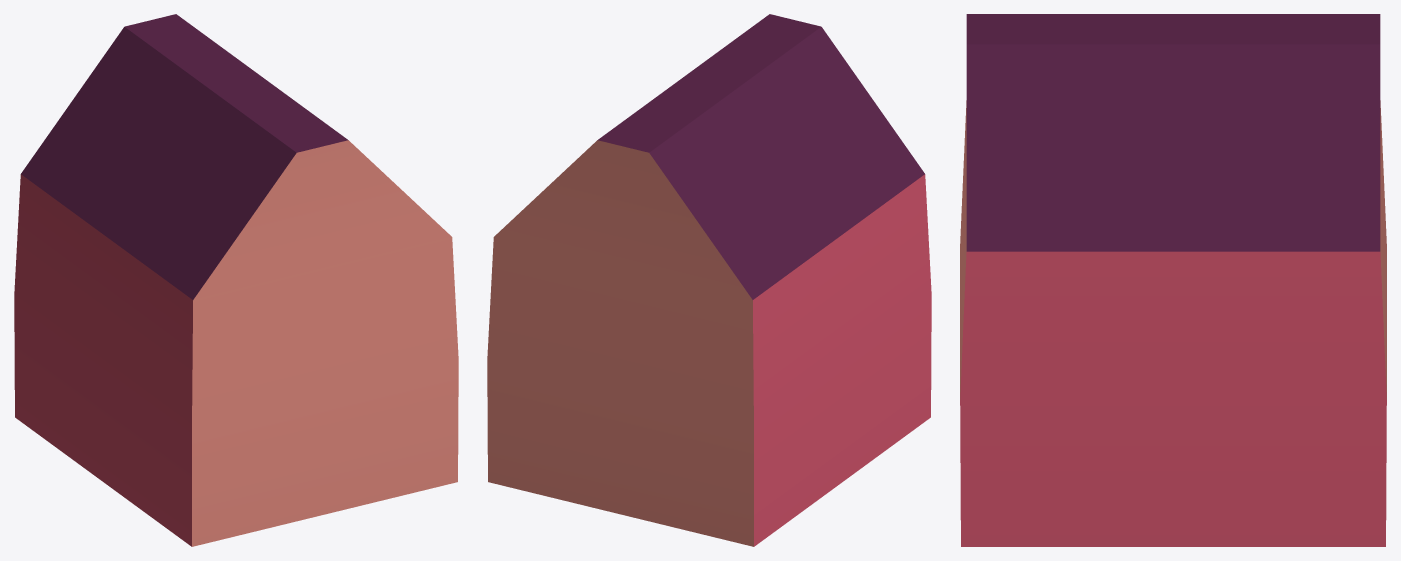
Rendered from House03_Pink.glb.
The picture shows the model from 3 angles, left to right: view 1: azimuth 30°, elevation 25°; view 2: azimuth 150°, elevation 25°; view 3: azimuth 270°, elevation 25°; orthographic projection. The views are drawn at different scales.
Parts seen in each view (by area): view 1: House03_Pink; view 2: House03_Pink; view 3: House03_Pink.
Boxes of the visible parts, x1,y1,x2,y2 form: House03_Pink: (14, 14, 458, 546); House03_Pink: (487, 14, 931, 546); House03_Pink: (960, 14, 1386, 546).
Bounding box in the file's own units: 1.91 × 2.51 × 2.21.
1 material, 1 textured.
